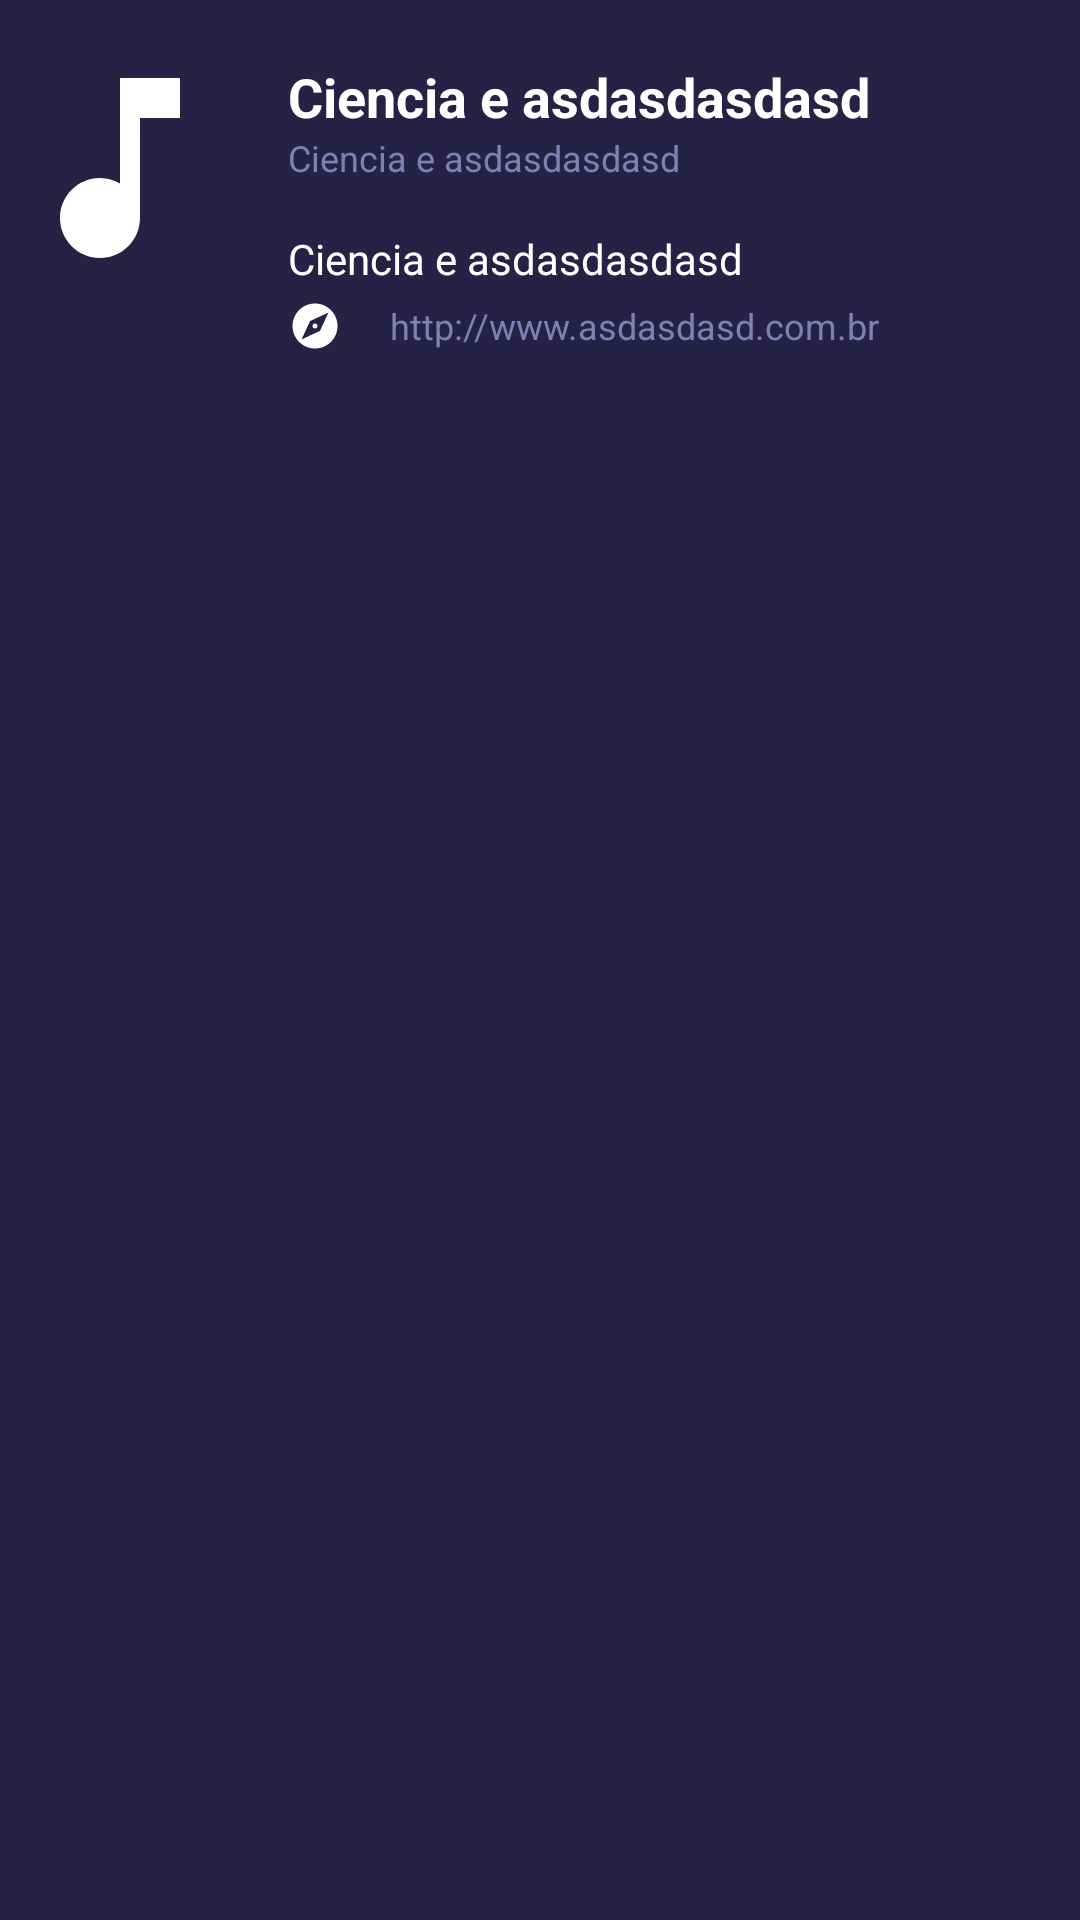

Icon bounding boxes for this 1080x1920 phone screenshot, format rect(x1, y1, x2, y2):
explore: rect(292, 303, 338, 349)
music note: rect(60, 78, 180, 258)
